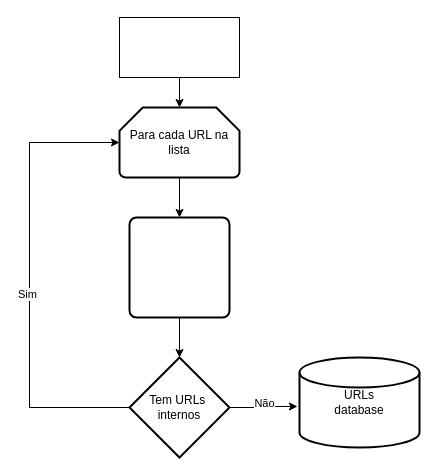
Image size: 437x476. Some labels were removed from this diagram. Each missing label, with the centre of its shape:
Buscar URLs internos "/": pixel 179 267
Lista de urls: pixel 179 47
